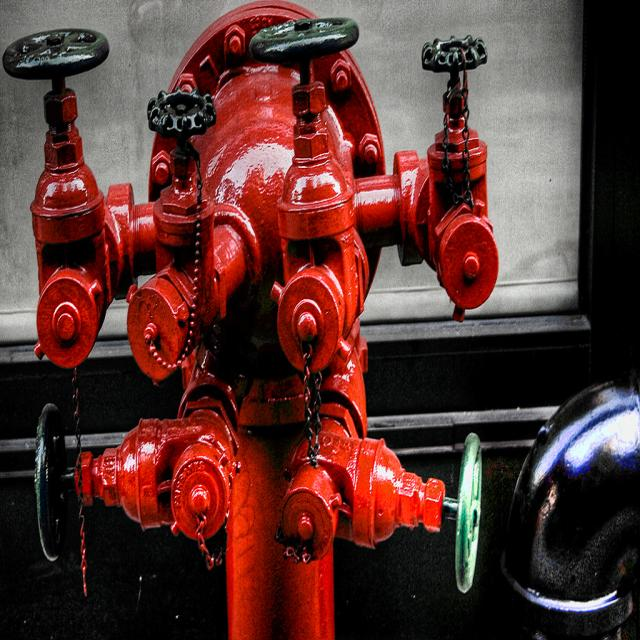fire_hydrant: (2, 3, 498, 640)
